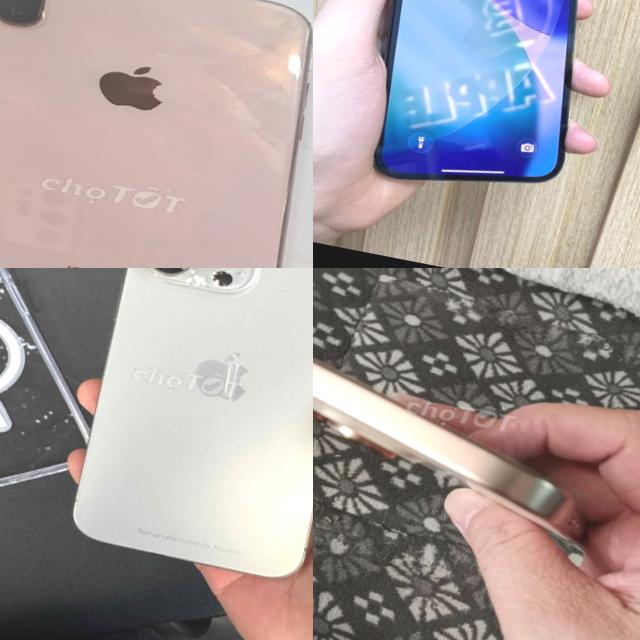gen_12_13: (347, 0, 626, 213)
gen_15: (61, 268, 313, 612)
gen_16: (313, 358, 583, 543)
gen_x_xs: (0, 0, 312, 268)
